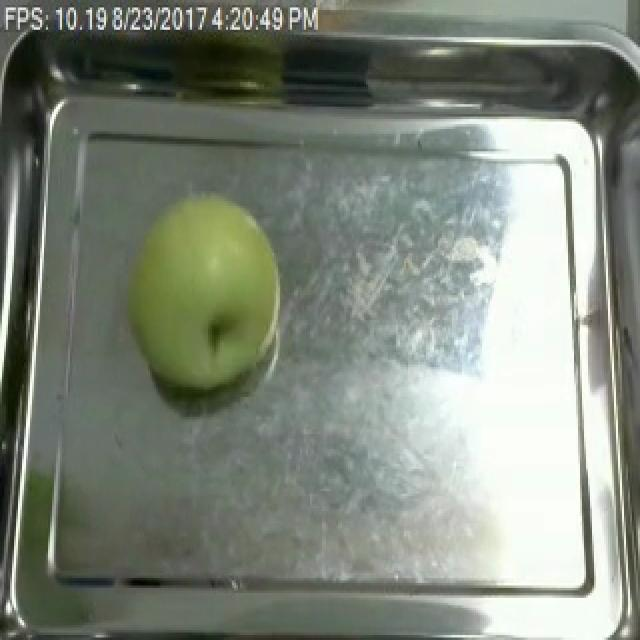50-_ripeness: (133, 194, 292, 394)
